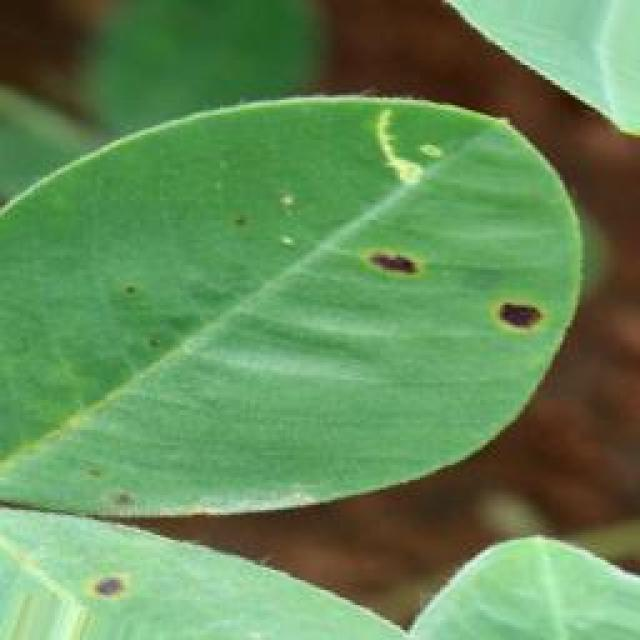Sigatoka: (94, 261, 209, 354), (482, 275, 577, 352), (70, 556, 170, 624), (339, 228, 438, 296), (199, 183, 279, 265), (93, 451, 167, 524)
